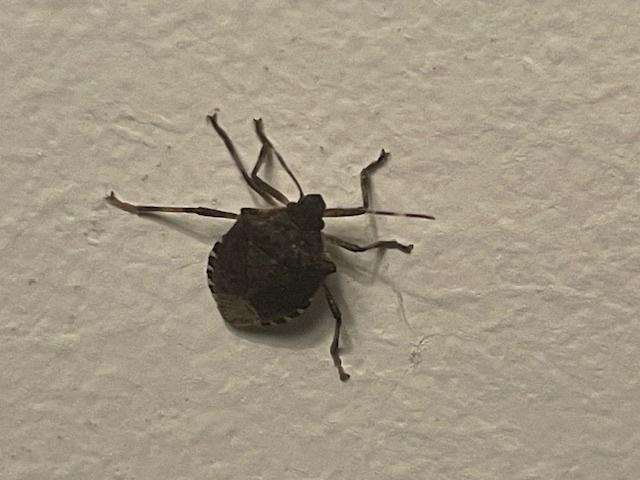stink_bugs: (69, 80, 507, 427)
